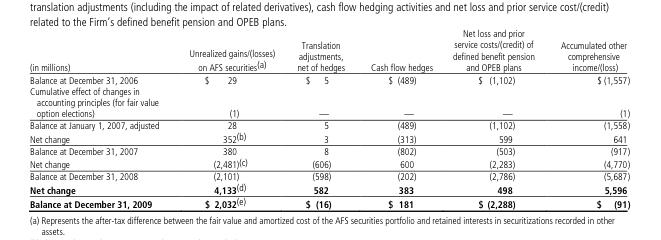table: (28, 28, 629, 209)
table column: (28, 28, 173, 209), (173, 28, 285, 209), (441, 28, 546, 209), (357, 28, 441, 209), (546, 28, 629, 209), (285, 28, 357, 209)
table column header: (28, 28, 629, 73)
table row: (28, 28, 629, 73), (28, 85, 629, 119), (28, 130, 629, 145), (28, 156, 629, 170), (28, 181, 629, 195), (28, 195, 629, 209), (28, 73, 629, 85), (28, 119, 629, 130), (28, 145, 629, 156), (28, 170, 629, 181)
